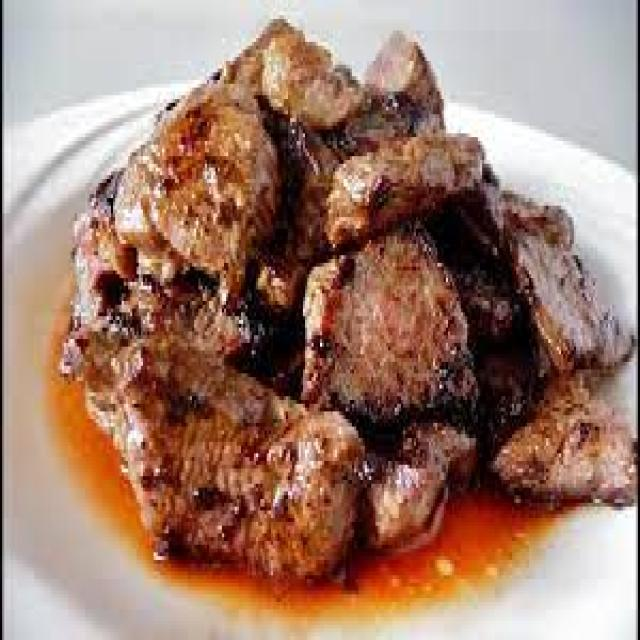Carne: (58, 15, 636, 587)
